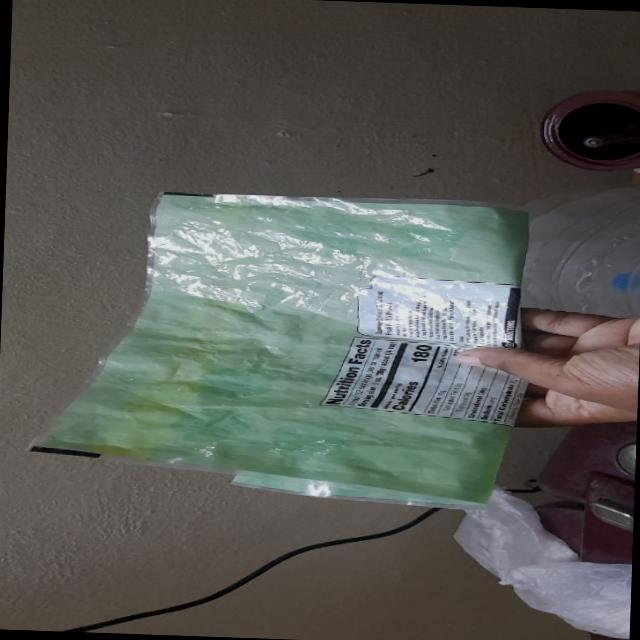Plastic - Recyclable: (22, 185, 535, 512)
